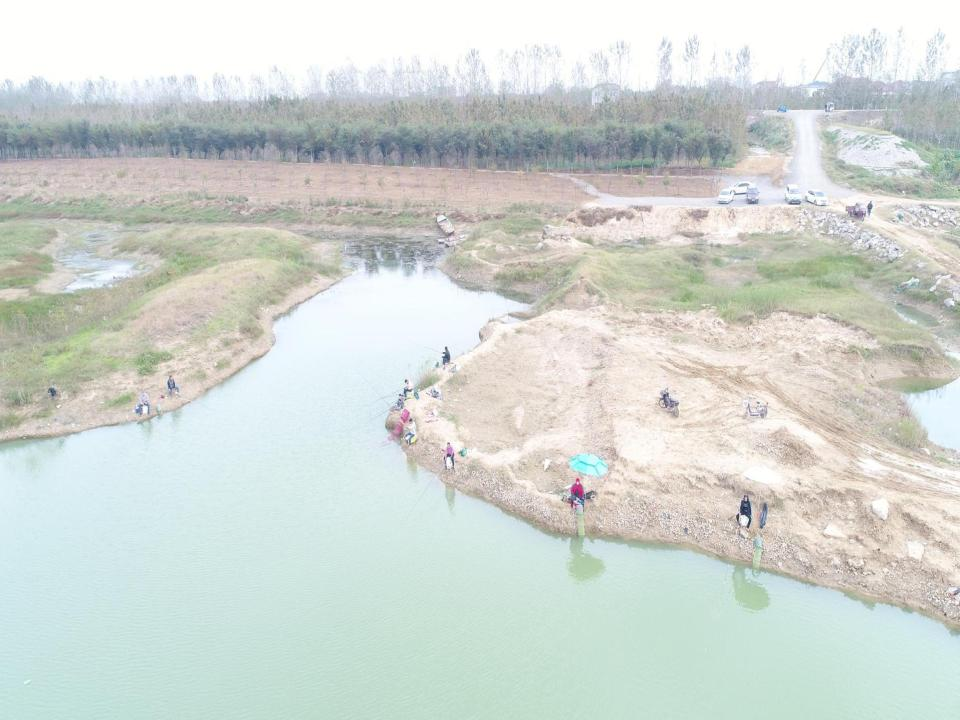car: (728, 180, 757, 197), (804, 188, 828, 207), (783, 184, 801, 204), (743, 185, 761, 204), (717, 188, 736, 205)
